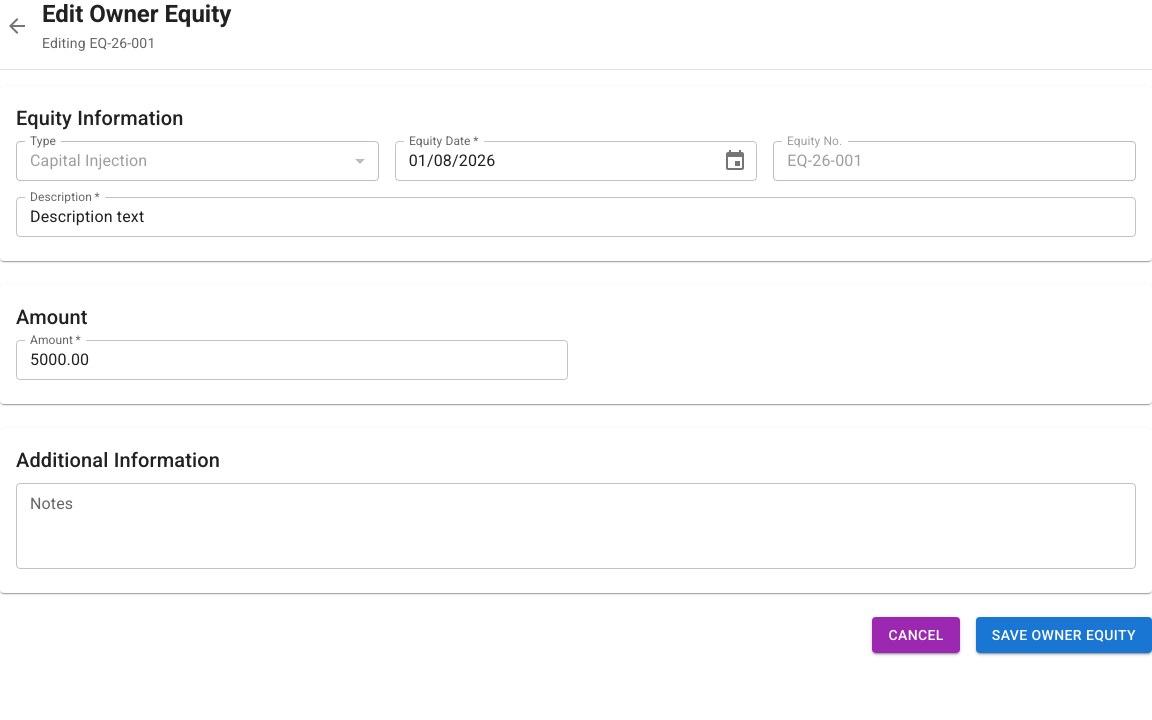
Scenario: OwnerEquityFormPage unsaved-changes guard › edit form › shows the confirmation on Cancel when dirty, without updating
Replace the text in the field labelled "Description *" with "Edited but unsaved". click: (576, 217)
box: 16,197 -> 1136,237
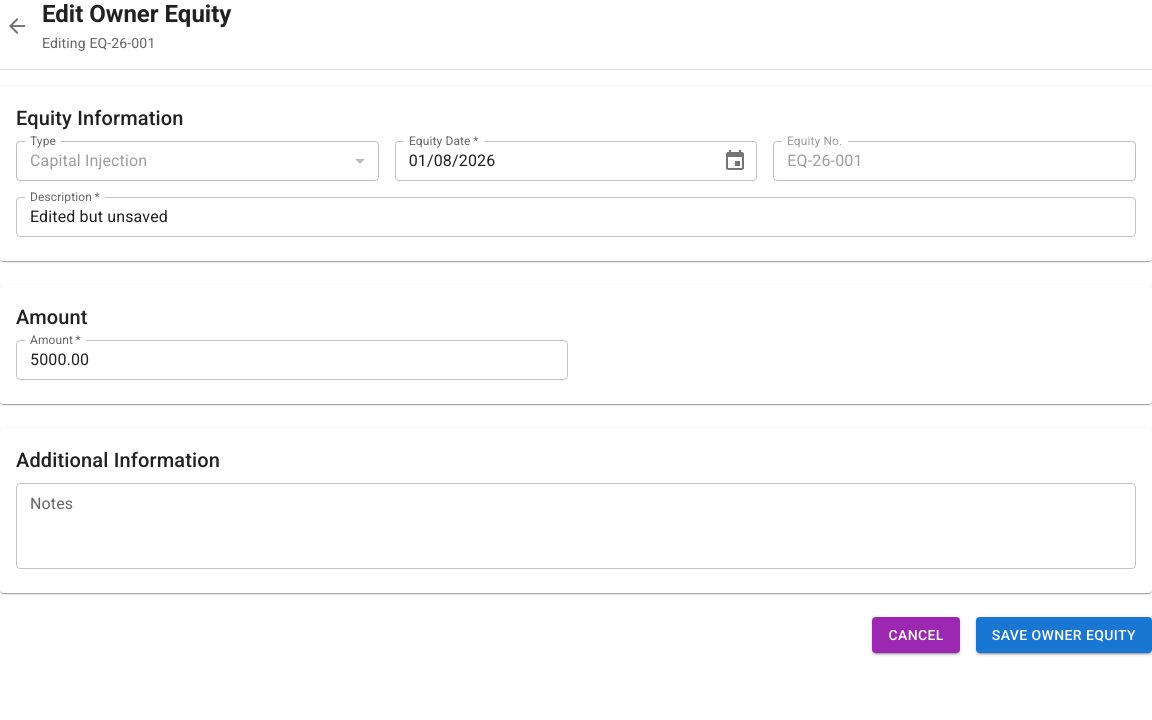
Click the button "Cancel". click: (916, 635)
box: 872,617 -> 960,653
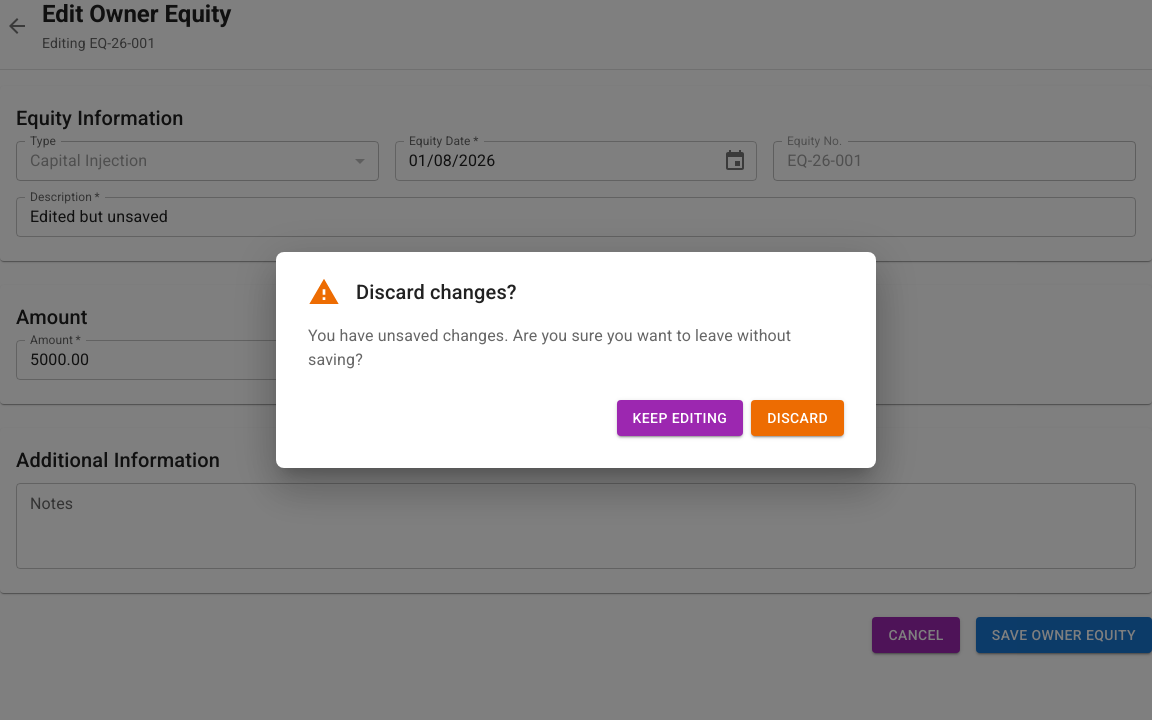
Check: the text "You have unsaved changes. Are you sure you want to leave without saving?" is shown, box 308,324 -> 844,372
